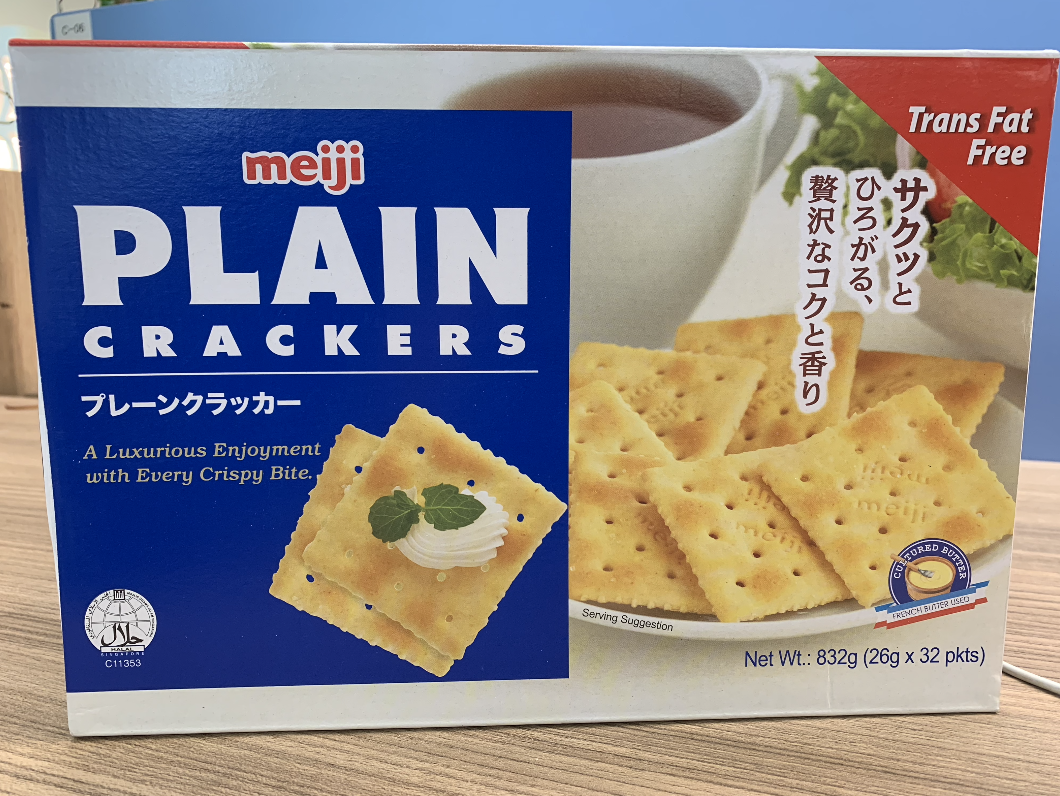crackers_800g-899g: (83, 85, 1008, 686)
